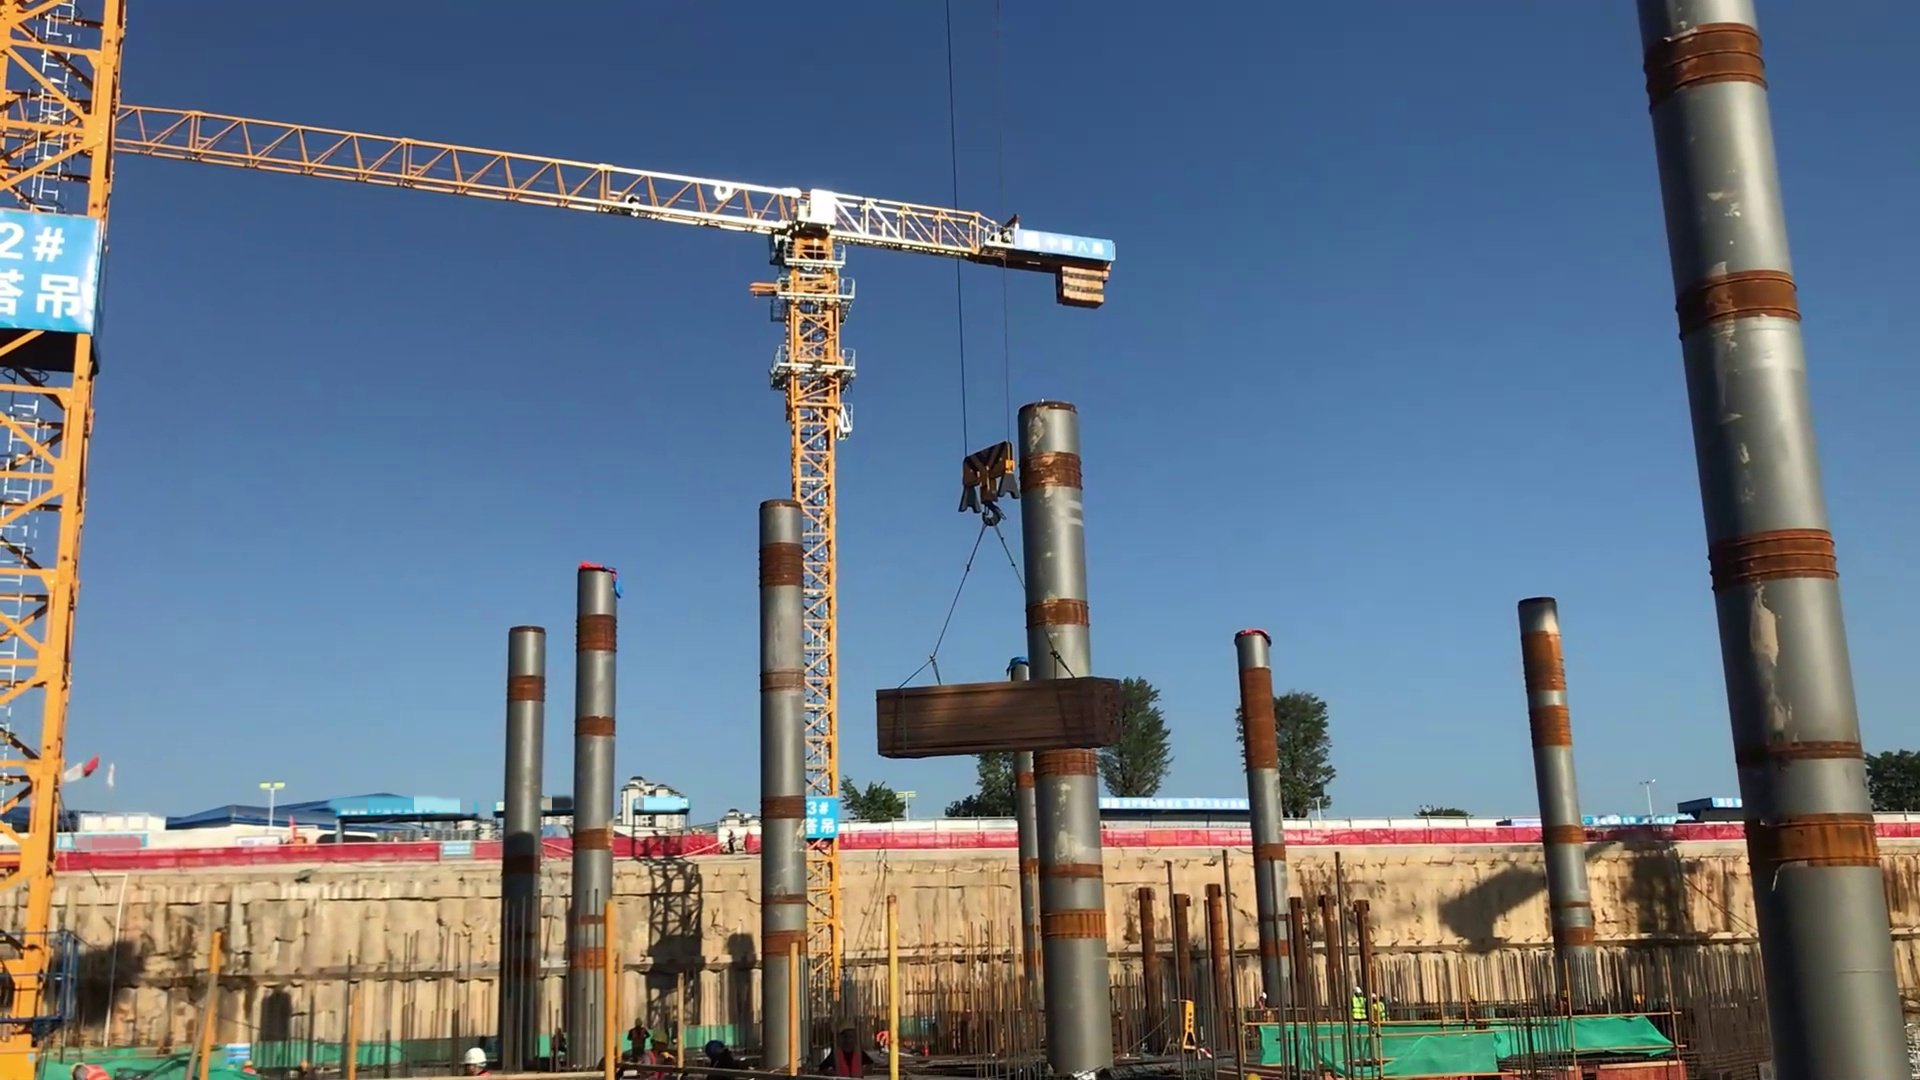ebox: (1155, 990, 1210, 1062)
helmet: (702, 1034, 736, 1063), (457, 1045, 494, 1068), (832, 1019, 863, 1031), (1352, 982, 1366, 995), (1371, 989, 1381, 1004)
hook: (956, 439, 1023, 511)
person: (813, 1014, 887, 1080), (1346, 982, 1372, 1025), (625, 1014, 647, 1055), (1365, 991, 1387, 1027)
vest: (831, 1043, 866, 1080), (1365, 995, 1390, 1023), (1350, 992, 1368, 1021), (631, 1025, 647, 1048)
wood: (863, 647, 1158, 776)
